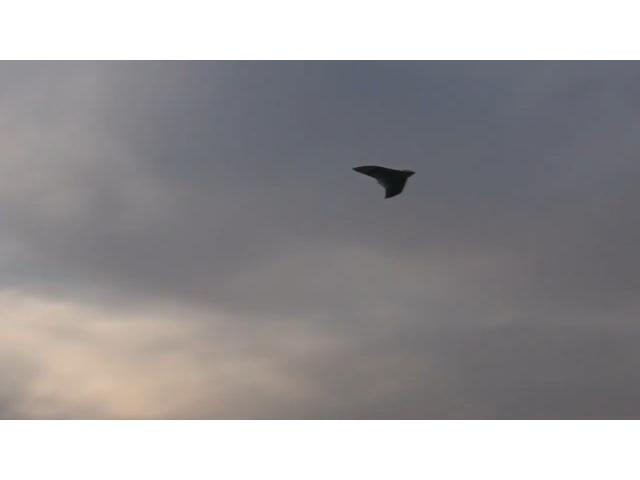Anti-Drone: (352, 165, 416, 199)
